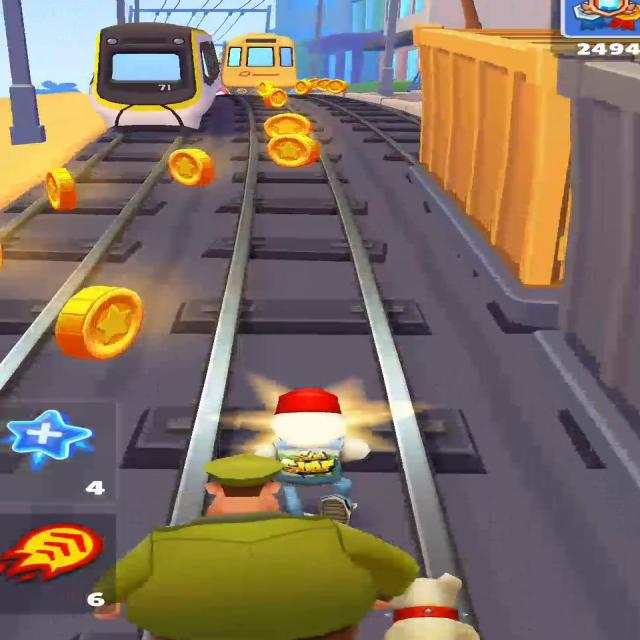police: (94, 454, 418, 640)
train: (413, 26, 639, 412), (89, 23, 226, 129), (223, 33, 297, 94)
